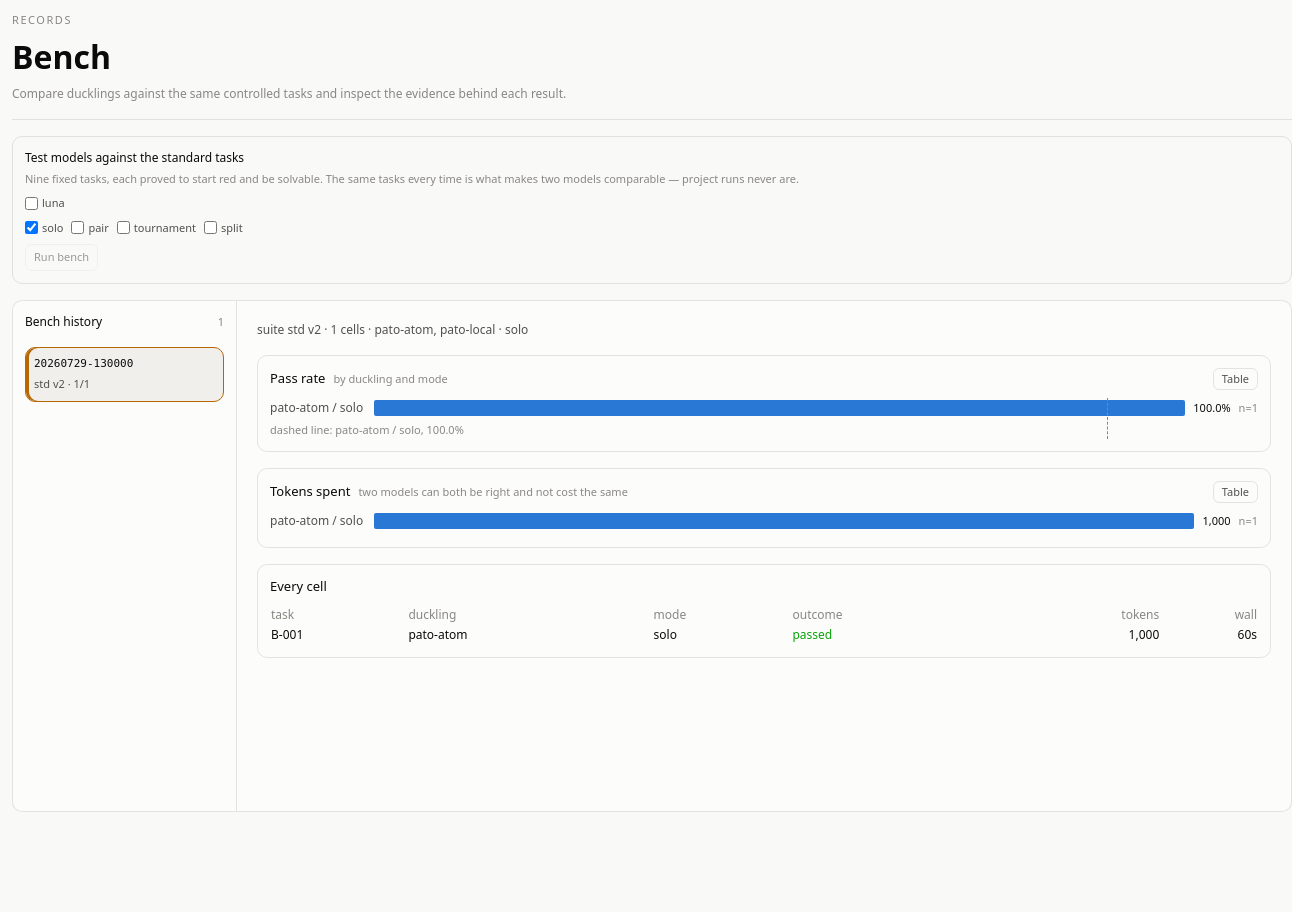
Test: Reports — Bench tab › starting a bench from the desktop › offers the fleet, the modes, and says how big the matrix is
This screenshot has width=1292, height=912.
Step 1. Click the checkbox with test id "bench-duckling-luna" → click(32, 203), box 25,197 -> 38,210
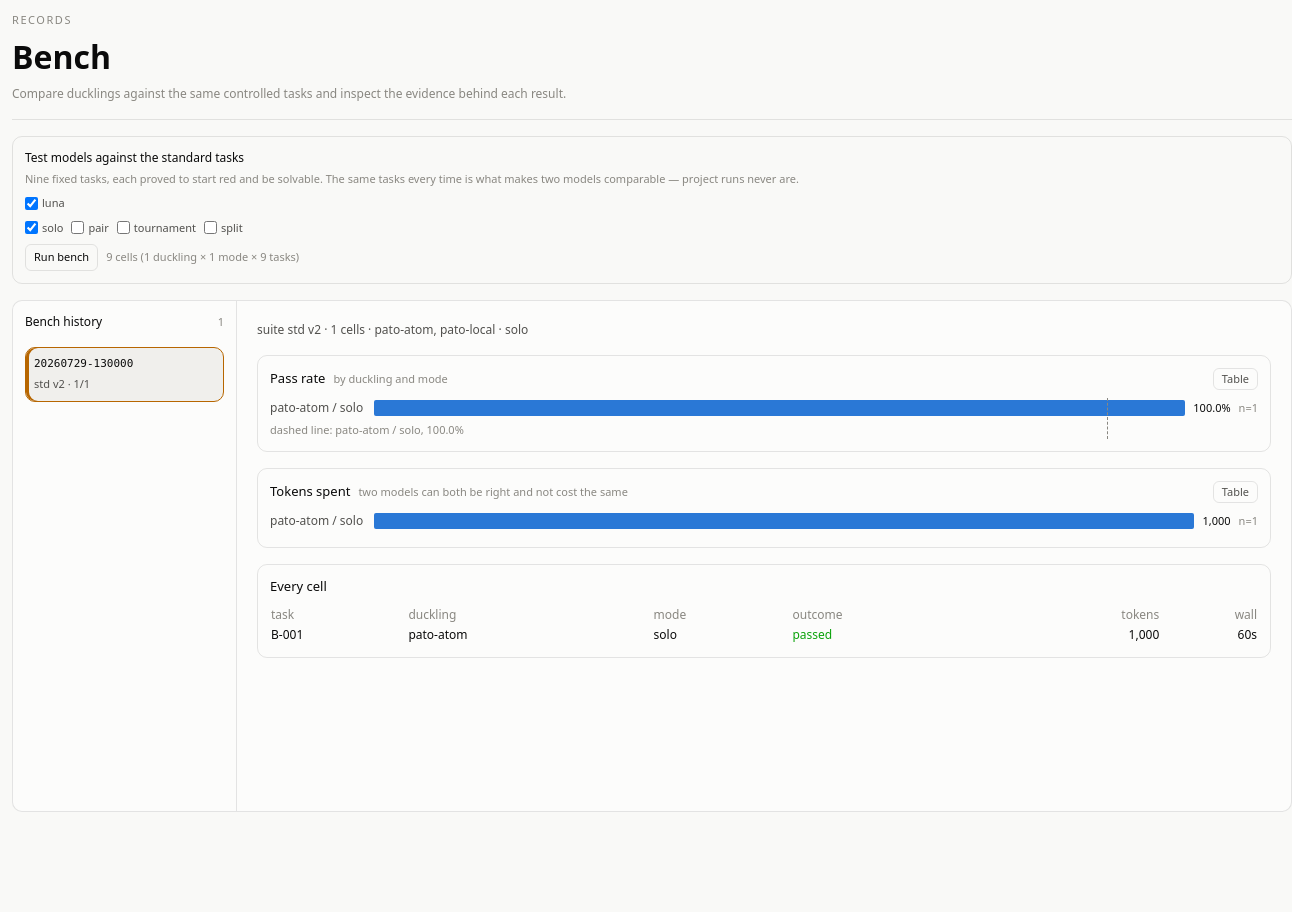
Step 2. Click the checkbox with test id "bench-mode-pair" → click(78, 228), box 71,221 -> 84,234
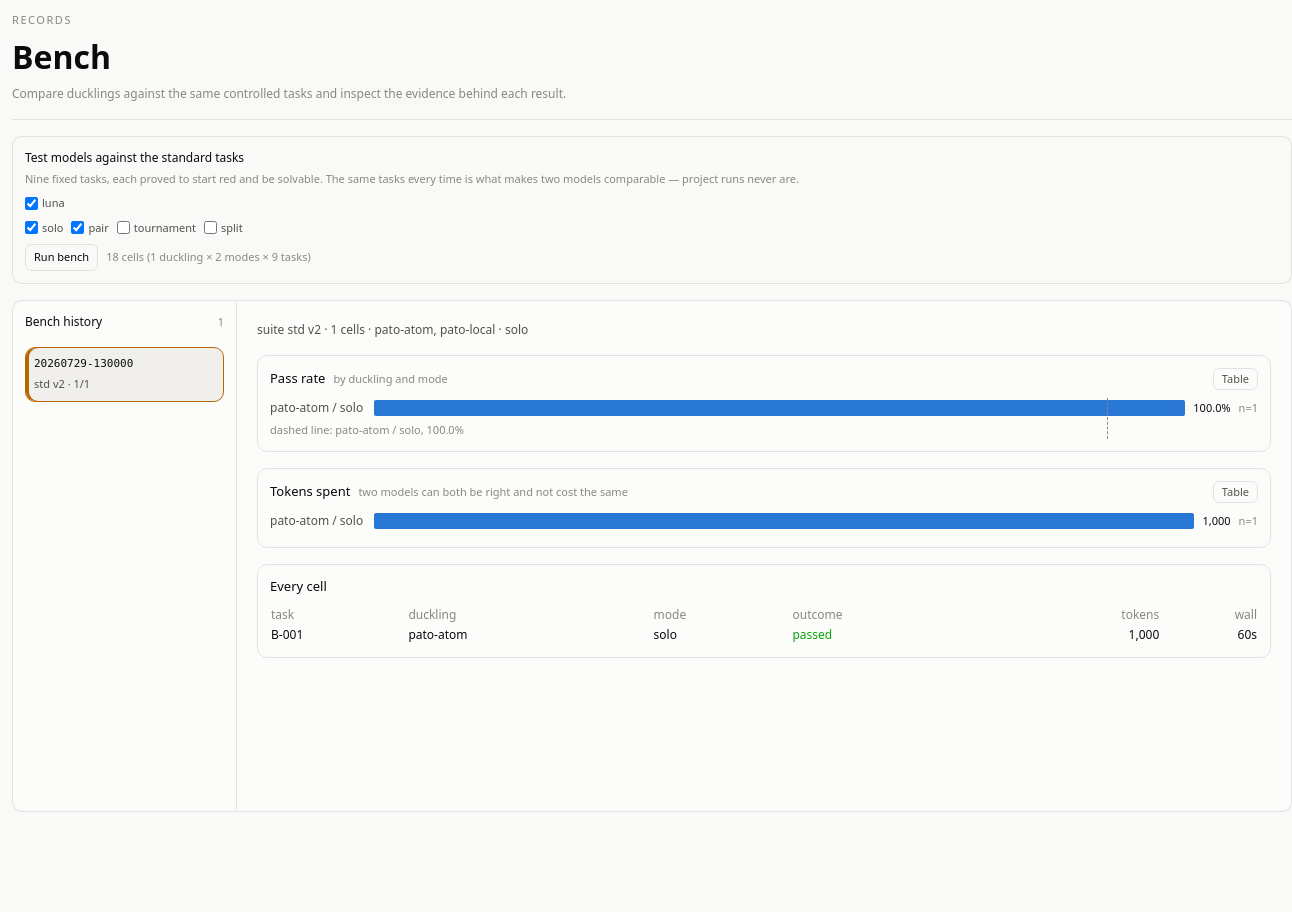
expect the text with test id "bench-cells" shows "18 cells": met, box 106,249 -> 311,266
